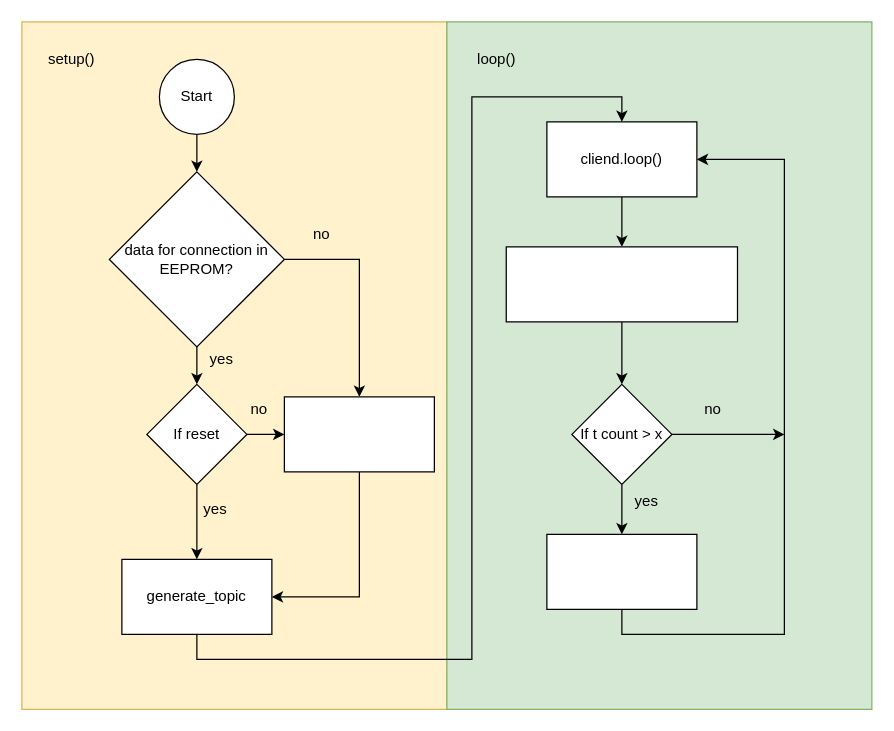
Image size: 894x731. Some labels were removed from this diagram. Each missing label, with the centre of its shape:
open AP: the point at 358,434
publishADC(): the point at 621,571
this_time = clock() tcount += this_time -last_time: the point at 621,284
